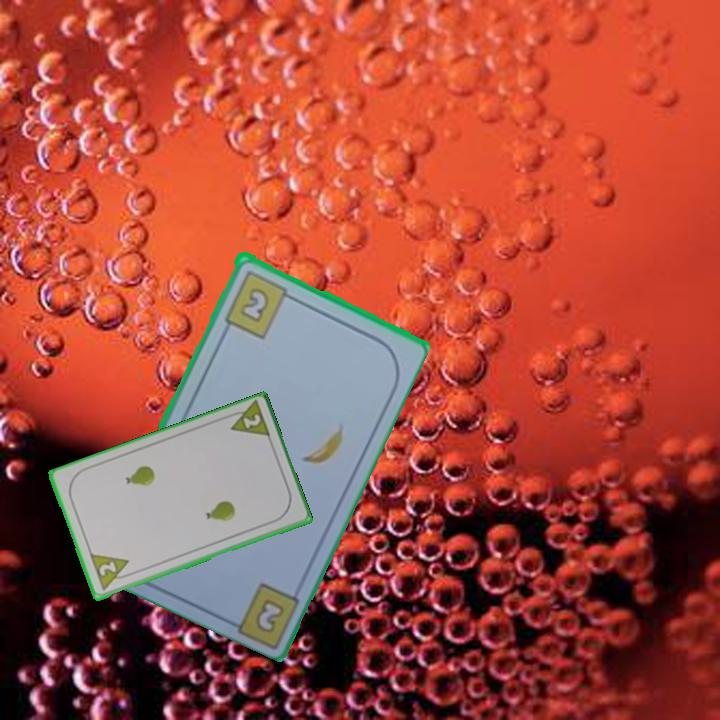2b: (221, 266, 298, 341), (254, 598, 284, 633)
2p: (222, 399, 273, 442), (86, 551, 136, 594)
